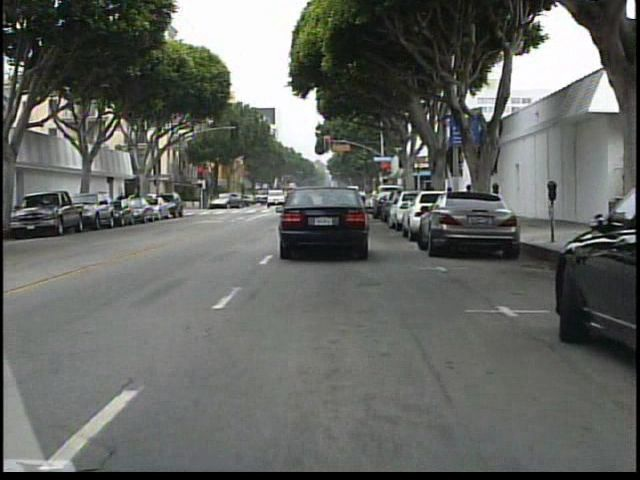person: (114, 190, 129, 218)
